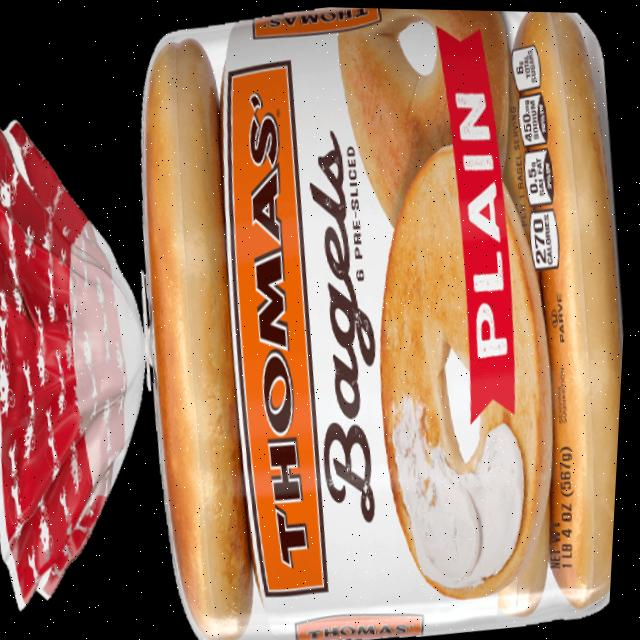Bagel: (383, 145, 557, 596)
